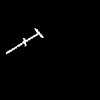double_crochet: (6, 29, 42, 53)
